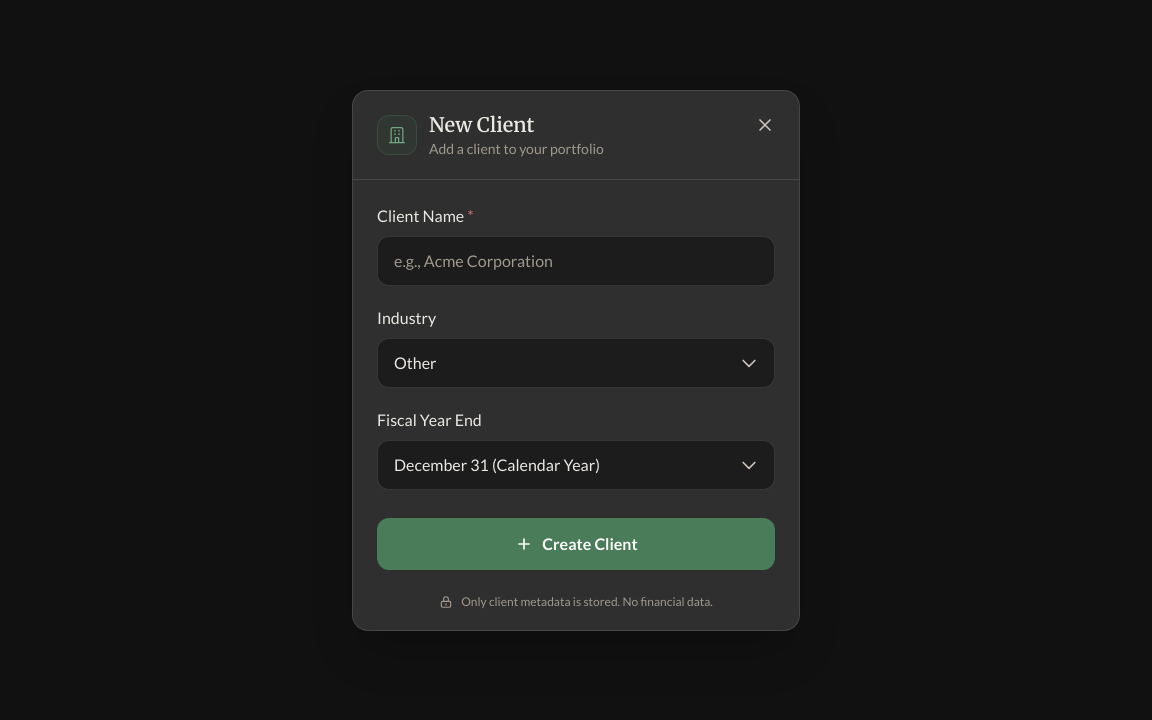
Scenario: CreateClientModal › shows validation error for empty name on blur
The image size is (1152, 720).
Click the field labelled "Client Name *" at (576, 260), box [377,236,775,286]
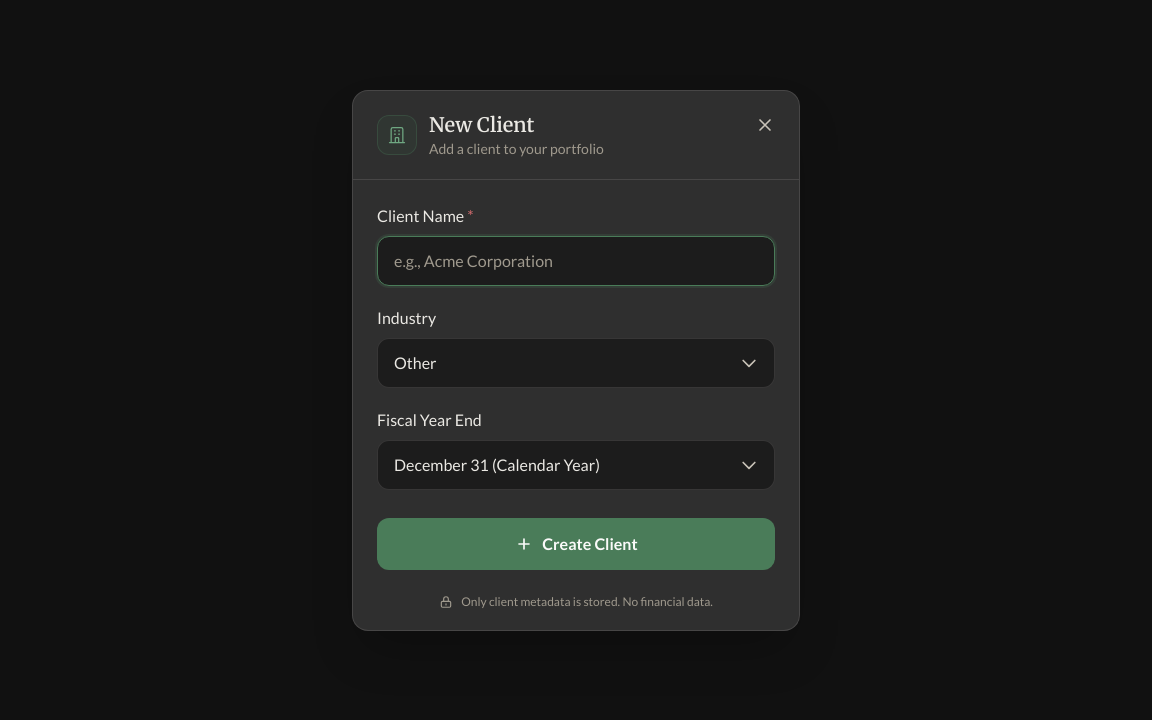
Press Tab
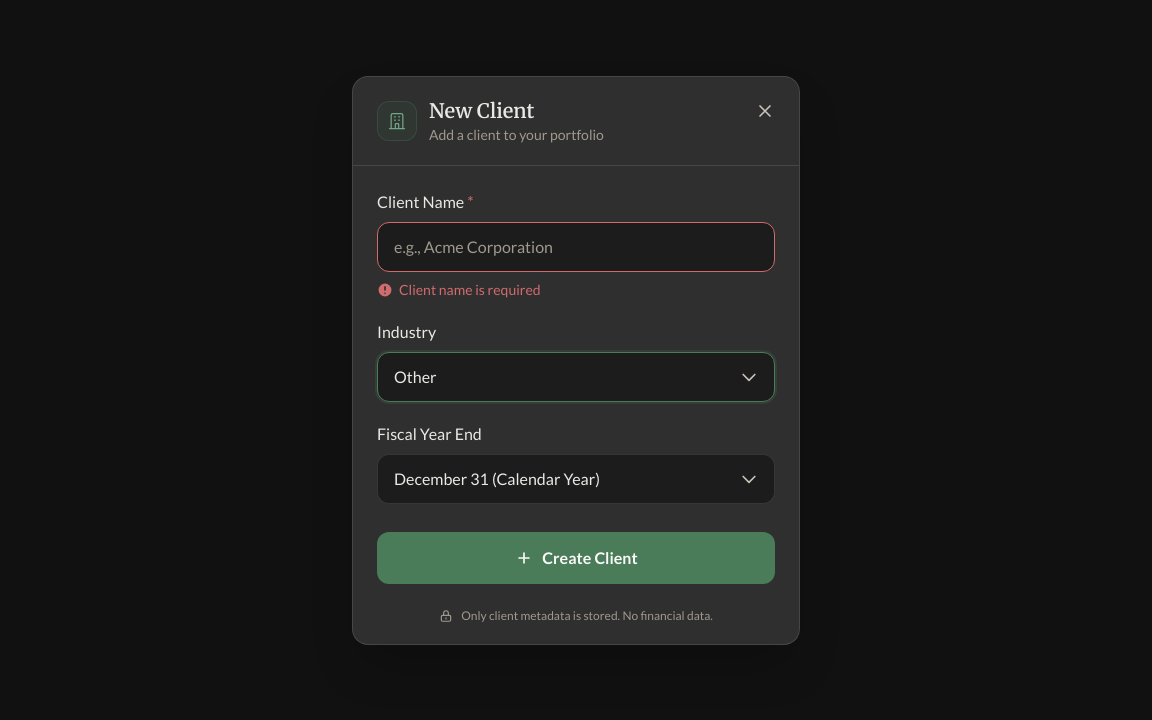
Now the text "Client name is required" is shown, box [377,280,541,298]
